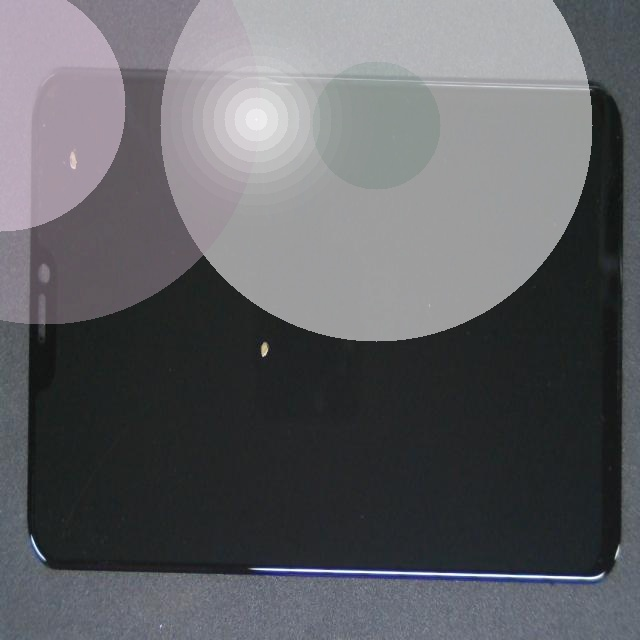stain: (156, 153, 384, 491), (36, 35, 95, 226)
